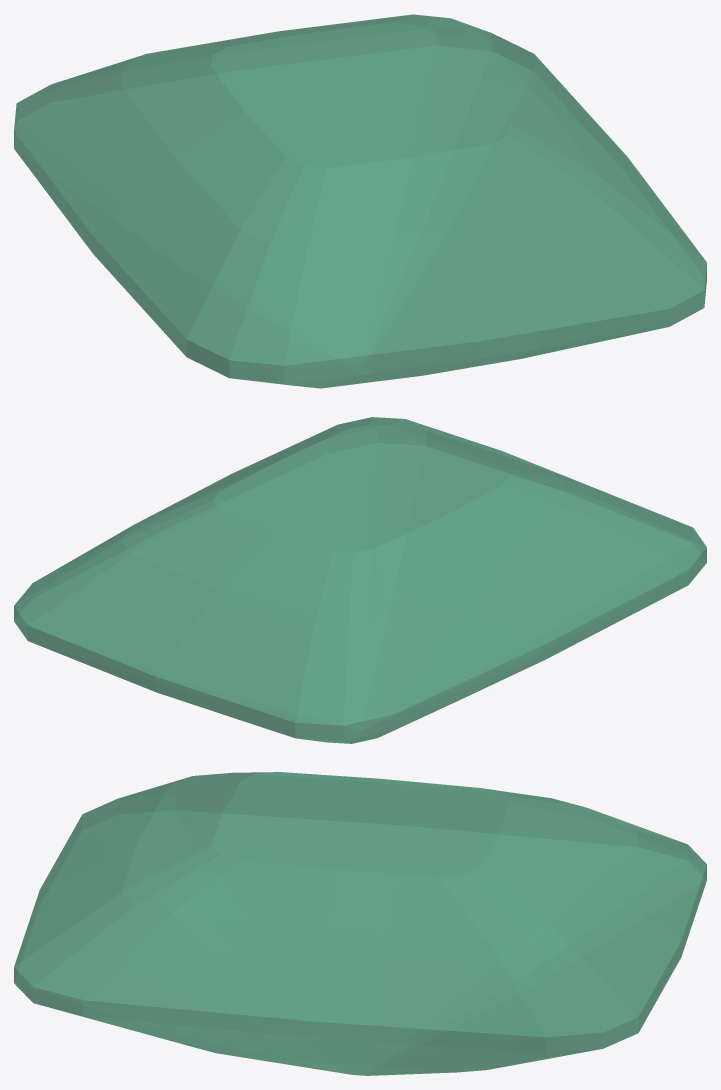
File: stone-tourmaline.glb
3 views of the same model, one above another, from view 1: azimuth 30°, elevation 25°; view 2: azimuth 150°, elevation 25°; view 3: azimuth 270°, elevation 25° (orthographic). The views are drawn at different scales.
Visible parts, largest first — view 1: Sculpture; view 2: Sculpture; view 3: Sculpture.
Boxes of the visible parts, bbox=[...] form: Sculpture: bbox=[14, 14, 706, 388]; Sculpture: bbox=[14, 417, 706, 743]; Sculpture: bbox=[14, 772, 706, 1075].
Bounding box in the file's own units: 2.26 × 1.07 × 2.72.
